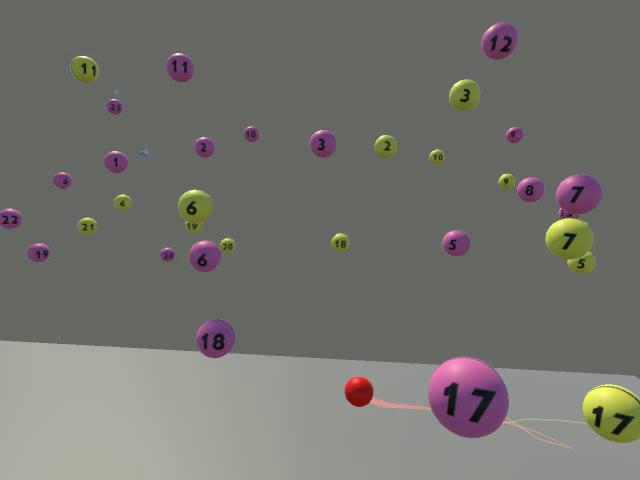ball_01_pink: (103, 151, 127, 173)
ball_02_pink: (193, 136, 214, 157)
ball_02_yellow: (373, 134, 396, 158)
ball_03_pink: (309, 129, 335, 157)
ball_03_yellow: (448, 78, 480, 110)
ball_04_pink: (52, 171, 72, 189)
ball_04_yellow: (112, 195, 132, 211)
ball_05_pink: (442, 230, 469, 256)
ball_05_yellow: (566, 251, 595, 273)
ball_06_pink: (188, 240, 221, 272)
ball_06_yellow: (178, 190, 212, 221)
ball_07_pink: (555, 173, 602, 214)
ball_07_yellow: (544, 217, 593, 259)
ball_08_pink: (516, 176, 544, 201)
ball_09_pink: (505, 126, 523, 143)
ball_09_yellow: (498, 173, 516, 188)
ball_10_pink: (243, 125, 259, 142)
ball_10_yellow: (428, 149, 445, 165)
ball_11_pink: (165, 52, 194, 81)
ball_11_yellow: (69, 55, 98, 82)
ball_12_pink: (481, 21, 518, 59)
ball_17_pink: (427, 357, 508, 438)
ball_17_yellow: (581, 383, 639, 443)
ball_18_pink: (195, 319, 234, 357)
ball_18_yellow: (330, 233, 350, 252)
ball_19_pink: (28, 243, 49, 262)
ball_19_yellow: (184, 220, 202, 232)
ball_20_pink: (160, 247, 175, 262)
ball_20_yellow: (219, 237, 234, 253)
ball_21_yellow: (76, 217, 98, 235)
ball_22_pink: (0, 209, 21, 229)
ball_25_pink: (105, 99, 122, 114)
ball_unknown: (557, 207, 579, 219)
user_cursor: (344, 375, 373, 407)
